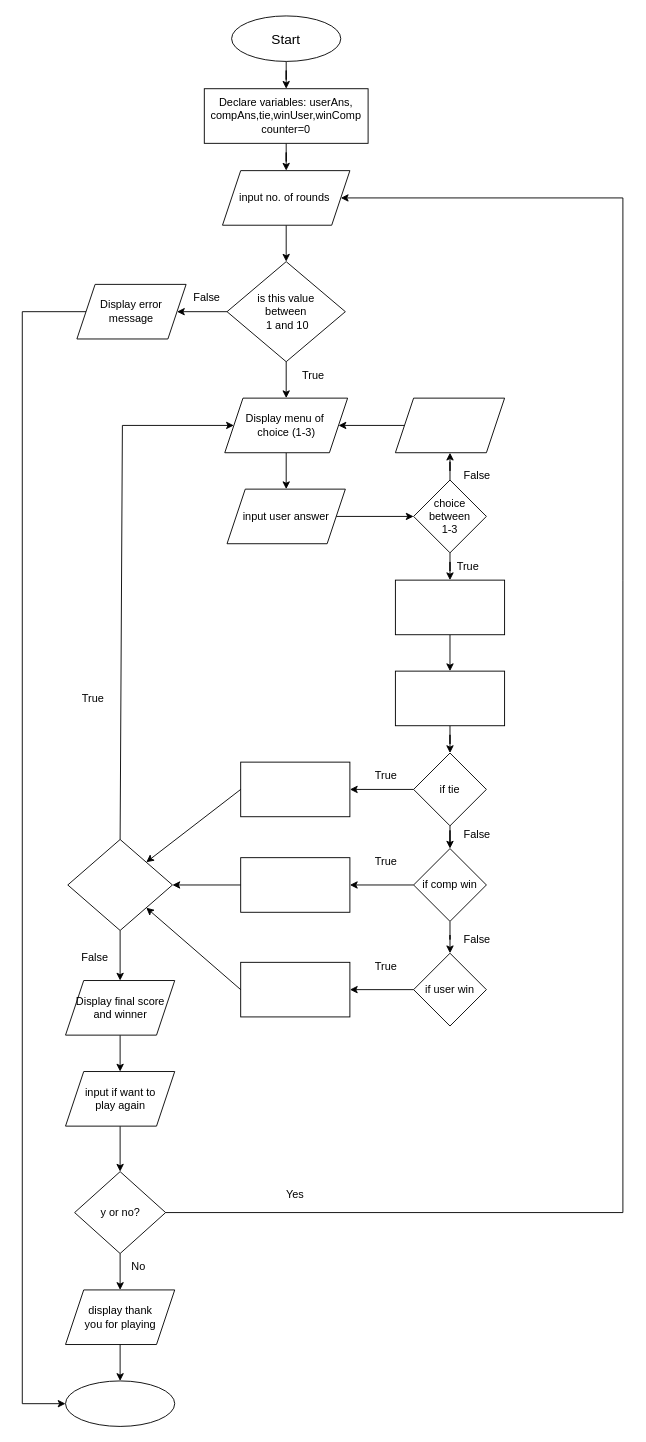
Image size: 646x1442. Some labels were removed from this diagram. Here are the shapes that lost their labels. From the top down, the box of each, then its label:
(394, 397, 505, 453): display error not valid choice
(394, 579, 505, 635): computer generate answer using random
(394, 670, 505, 726): compare comp and user choice
(240, 761, 350, 817): update tie score and counter
(67, 839, 172, 930): is the no.of rounds > counter?
(240, 857, 350, 912): update computer win score and counter
(240, 961, 350, 1017): update user win score and counter
(65, 1380, 175, 1426): Stop
